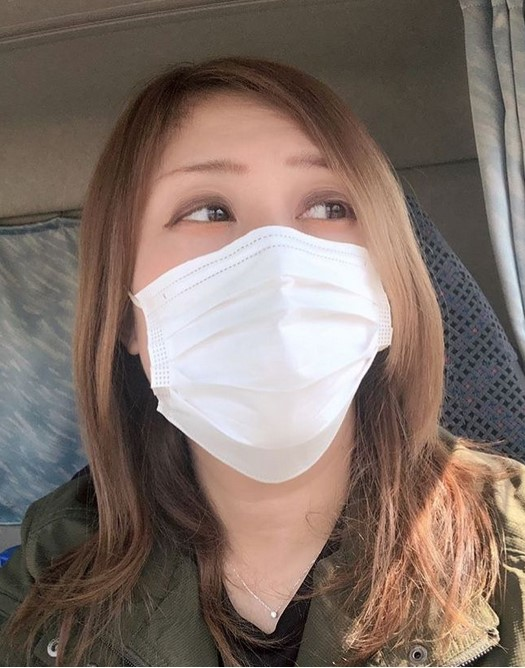face_with_mask: (100, 64, 404, 490)
